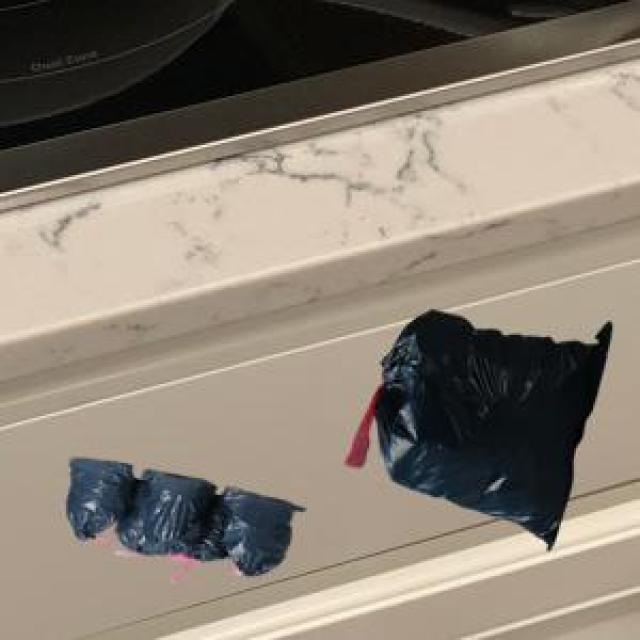Vinyl: (346, 310, 611, 548), (66, 461, 303, 574)
